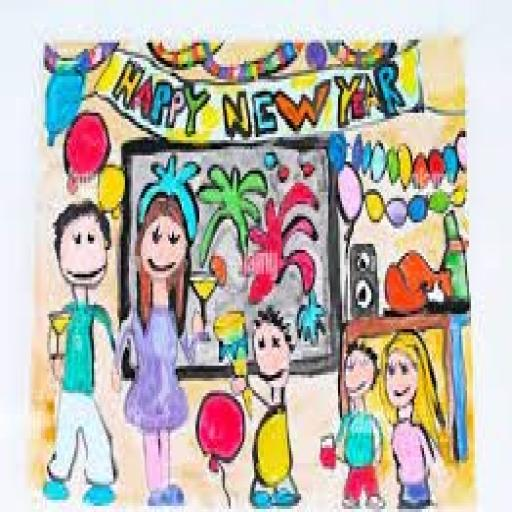person: (112, 190, 214, 506), (33, 200, 117, 509), (234, 291, 308, 509), (376, 321, 444, 512), (318, 331, 384, 509)
